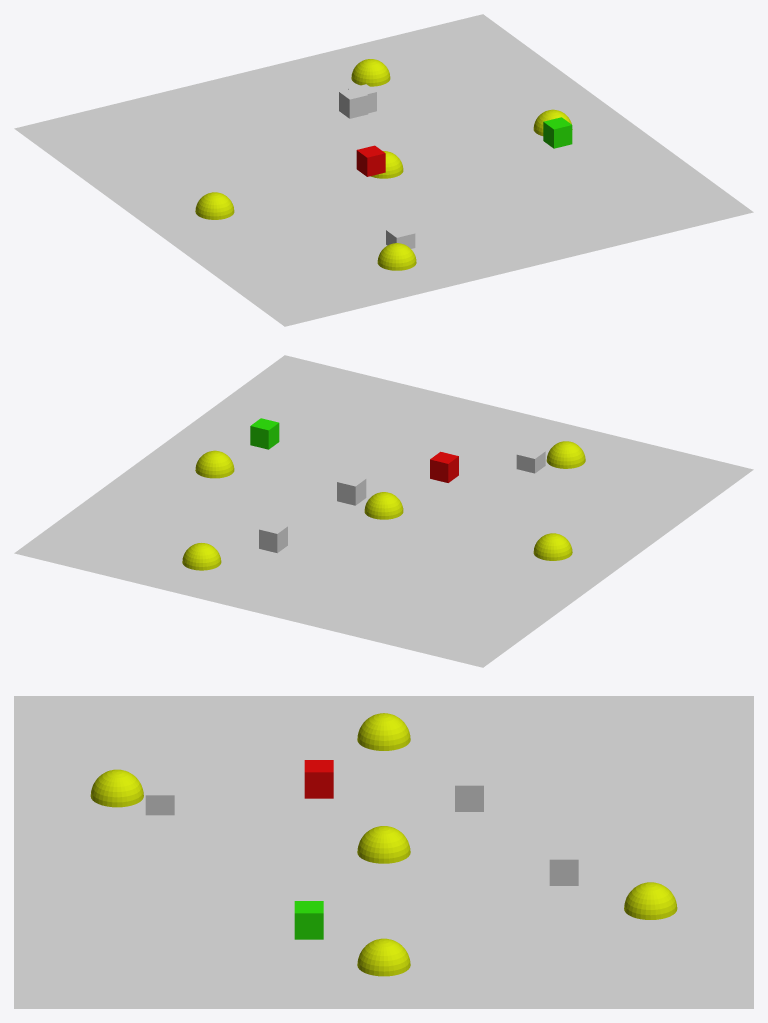
3 renders of one model, top to bottom at view 1: azimuth 30°, elevation 25°; view 2: azimuth 150°, elevation 25°; view 3: azimuth 270°, elevation 25°, orthographic. The views are drawn at different scales.
Parts seen in each view (by area): view 1: Plane; view 2: Plane; view 3: Plane.
Part boxes in pixels (bbox=[...]): Plane: bbox=[14, 14, 753, 326]; Plane: bbox=[14, 355, 753, 667]; Plane: bbox=[14, 696, 753, 1008].
Bounding box in the file's own units: 27.75 × 4.04 × 27.75.
